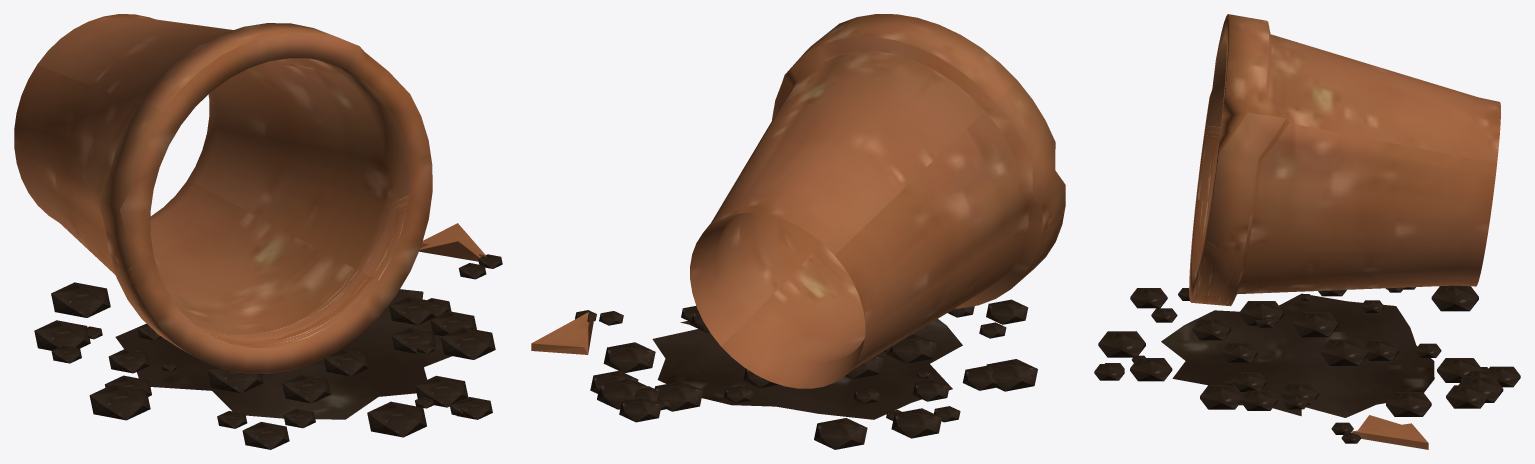
File: by_pot_tipped.glb
The picture shows the model from 3 angles, left to right: view 1: azimuth 30°, elevation 25°; view 2: azimuth 150°, elevation 25°; view 3: azimuth 270°, elevation 25°; orthographic projection. The views are drawn at different scales.
Parts seen in each view (by area): view 1: by_pot_tipped; view 2: by_pot_tipped; view 3: by_pot_tipped.
Boxes of the visible parts, bbox=[...] form: by_pot_tipped: bbox=[14, 14, 502, 449]; by_pot_tipped: bbox=[531, 14, 1065, 449]; by_pot_tipped: bbox=[1094, 14, 1520, 449].
Bounding box in the file's own units: 0.522 × 0.3923 × 0.5036.
Materials: 1 (1 with a texture image).
